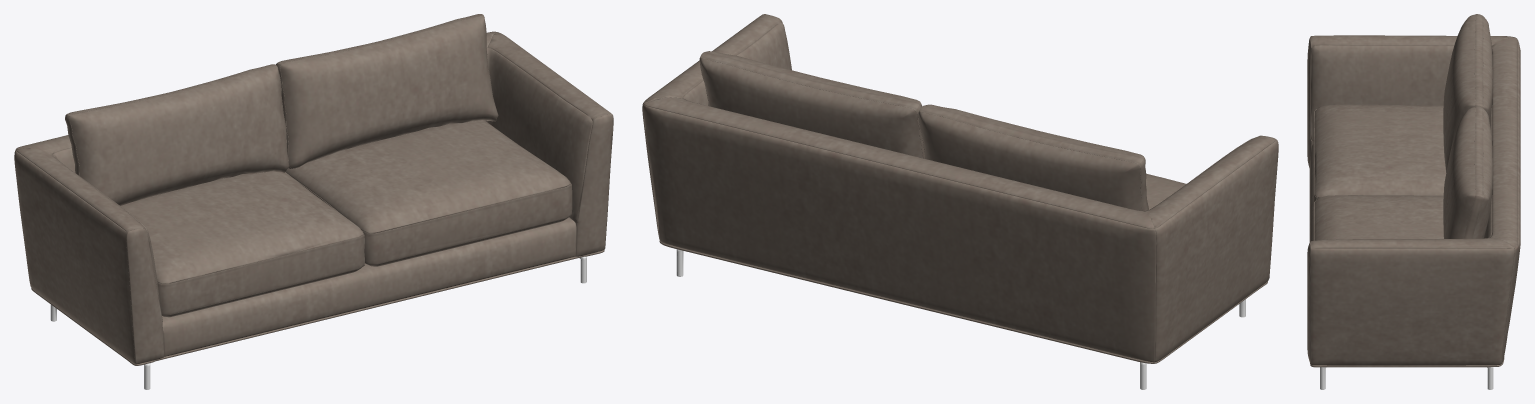
3 views of the same model, side by side, from view 1: azimuth 30°, elevation 25°; view 2: azimuth 150°, elevation 25°; view 3: azimuth 270°, elevation 25° (orthographic). The views are drawn at different scales.
Visible parts, largest first — view 1: B072M1WJ8S; view 2: B072M1WJ8S; view 3: B072M1WJ8S.
Boxes of the visible parts, left/top/right/bottom form: B072M1WJ8S: left=14, top=14, right=613, bottom=389; B072M1WJ8S: left=642, top=14, right=1278, bottom=389; B072M1WJ8S: left=1307, top=14, right=1520, bottom=389.
Size of the model in its own units: 2.12 by 0.864 by 0.8894.
Materials: 1 (1 with a texture image).
